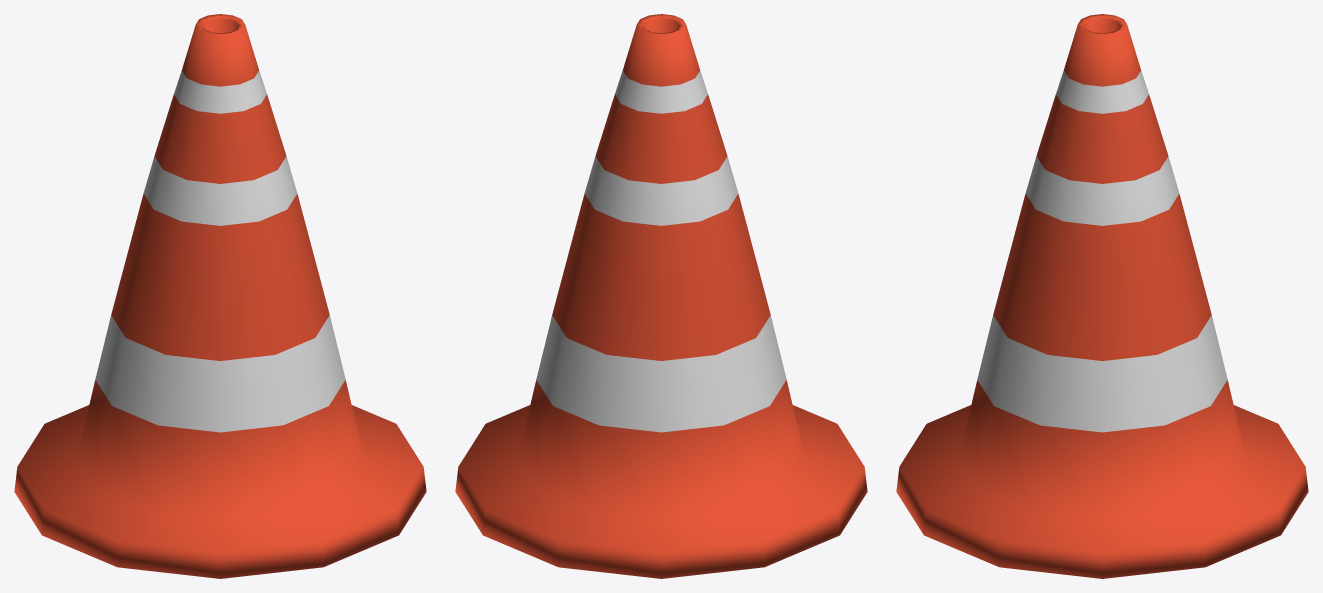
Rendered from Cono.fbx.
The picture shows the model from 3 angles, left to right: view 1: azimuth 30°, elevation 25°; view 2: azimuth 150°, elevation 25°; view 3: azimuth 270°, elevation 25°; orthographic projection.
Visible parts, largest first — view 1: Cylinder; view 2: Cylinder; view 3: Cylinder.
Boxes of the visible parts, x1,y1,x2,y2 form: Cylinder: (14, 14, 426, 578); Cylinder: (455, 14, 867, 578); Cylinder: (896, 14, 1308, 578).
Size of the model in its own units: 53.23 by 66.59 by 53.23.
